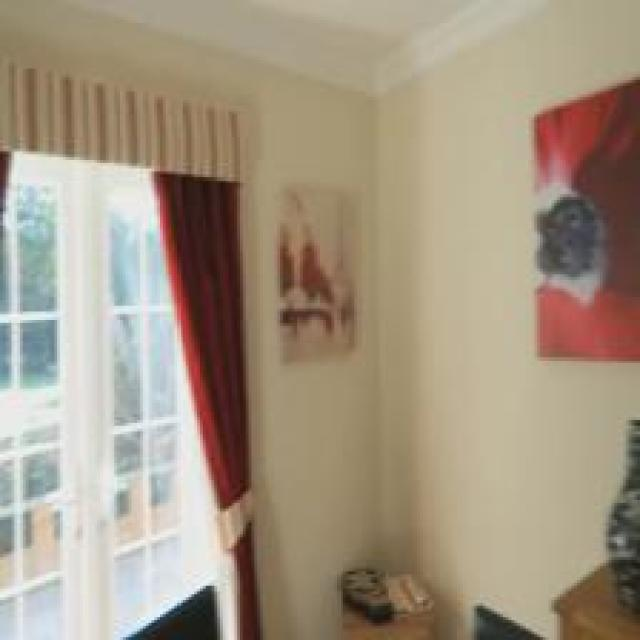other: (140, 167, 280, 627), (515, 95, 634, 363)
